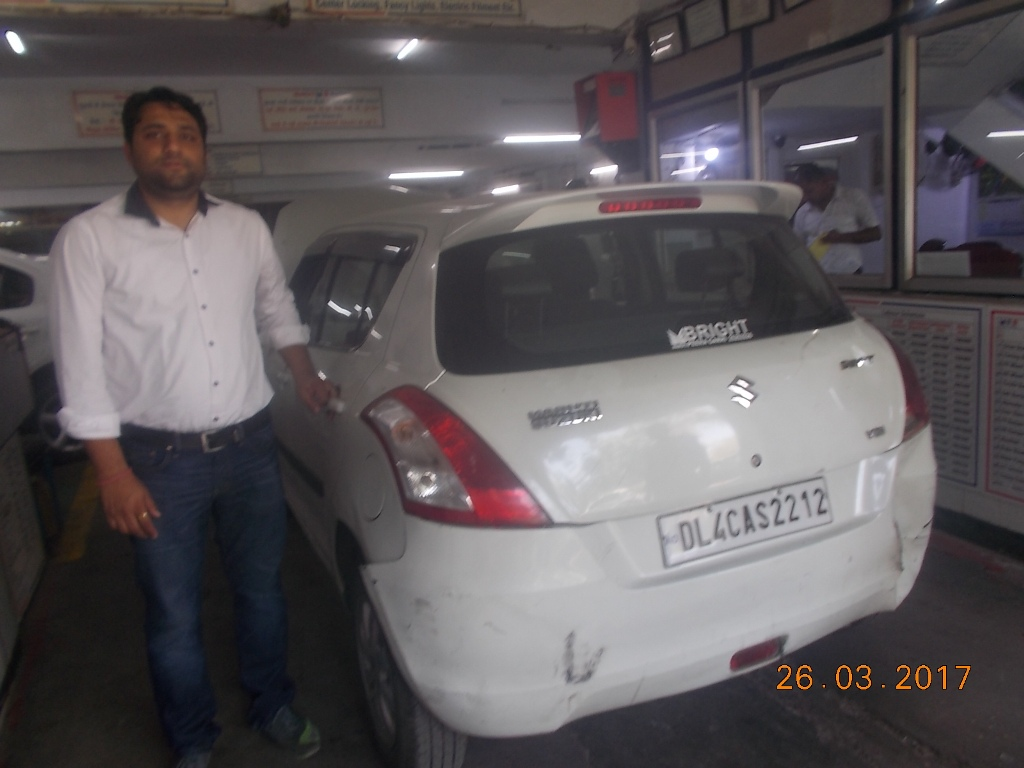Scratch_or_spot: (561, 626, 607, 695)
